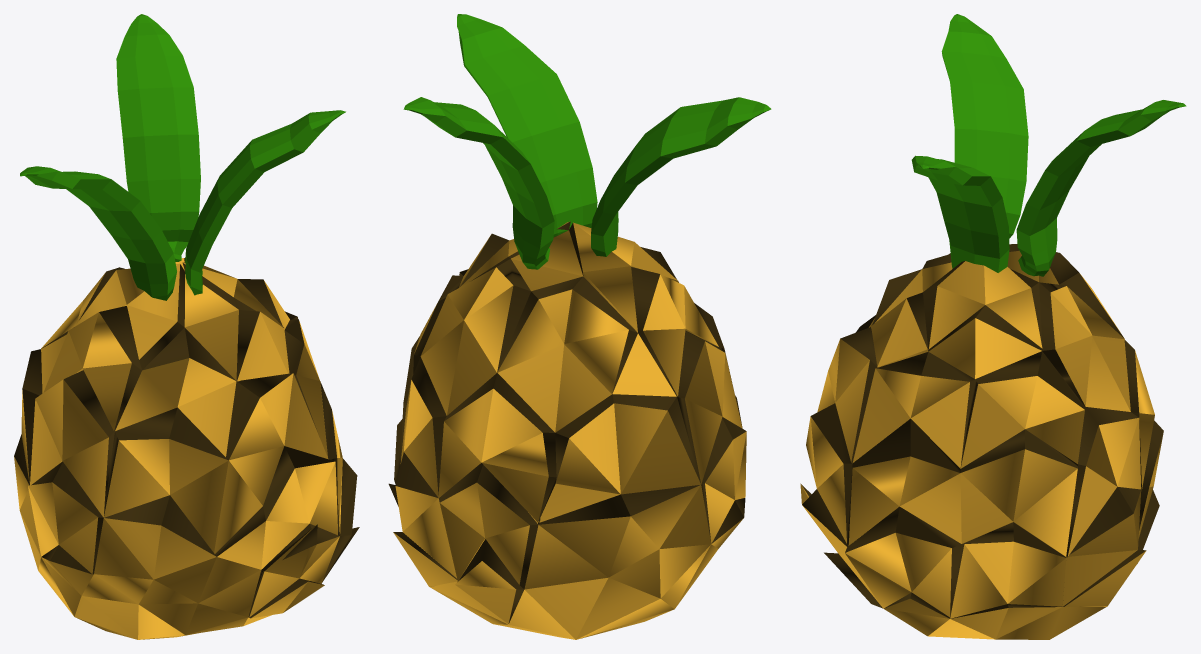
The model's file is _pineapple.fbx.
3 renders of one model, left to right at view 1: azimuth 30°, elevation 25°; view 2: azimuth 150°, elevation 25°; view 3: azimuth 270°, elevation 25°, orthographic. The views are drawn at different scales.
Visible parts, largest first — view 1: Platonic_1, Cylinder_12_1, Cylinder_12_2, Cylinder_12; view 2: Platonic_1, Cylinder_12, Cylinder_12_2, Cylinder_12_1; view 3: Platonic_1, Cylinder_12_2, Cylinder_12_1, Cylinder_12.
Part boxes in pixels (box(x1,y1,x2,y2)): Platonic_1: box(14, 258, 359, 639); Cylinder_12_1: box(116, 14, 200, 261); Cylinder_12_2: box(20, 166, 176, 300); Cylinder_12: box(185, 110, 345, 295); Platonic_1: box(388, 221, 746, 639); Cylinder_12: box(457, 14, 597, 236); Cylinder_12_2: box(591, 97, 771, 256); Cylinder_12_1: box(403, 97, 554, 269); Platonic_1: box(800, 244, 1163, 639); Cylinder_12_2: box(941, 14, 1028, 238); Cylinder_12_1: box(1016, 100, 1186, 276); Cylinder_12: box(911, 155, 1009, 272).
Size of the model in its own units: 233 by 348 by 227.
